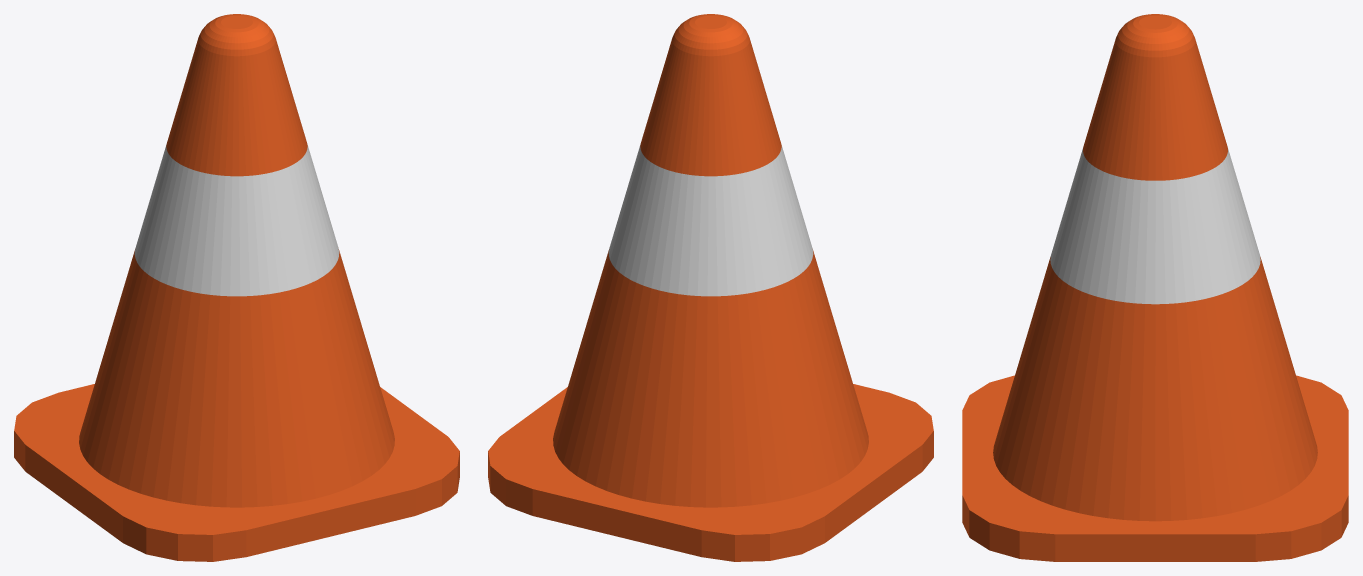
3 views of the same model, side by side, from view 1: azimuth 30°, elevation 25°; view 2: azimuth 150°, elevation 25°; view 3: azimuth 270°, elevation 25° (orthographic). The views are drawn at different scales.
Parts seen in each view (by area): view 1: Cylinder; view 2: Cylinder; view 3: Cylinder.
Part boxes in pixels (<box>): Cylinder: <box>14,14,459,561</box>; Cylinder: <box>488,14,933,561</box>; Cylinder: <box>962,14,1348,561</box>.
Bounding box in the file's own units: 2 × 2.62 × 2.
